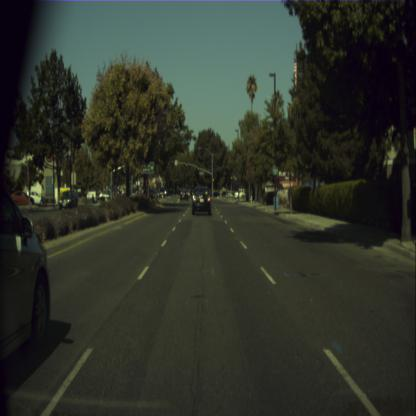Red: (172, 160, 174, 166)
Yellow: (197, 165, 199, 170), (212, 178, 214, 182), (230, 175, 232, 179), (186, 161, 186, 166)
